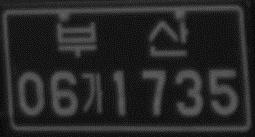0: (16, 69, 46, 117)
1: (109, 67, 132, 119)
3: (173, 66, 205, 118)
5: (205, 65, 239, 117)
6: (47, 68, 78, 117)
7: (139, 65, 170, 118)
가: (78, 69, 107, 118)
부산_D: (53, 17, 191, 60)
